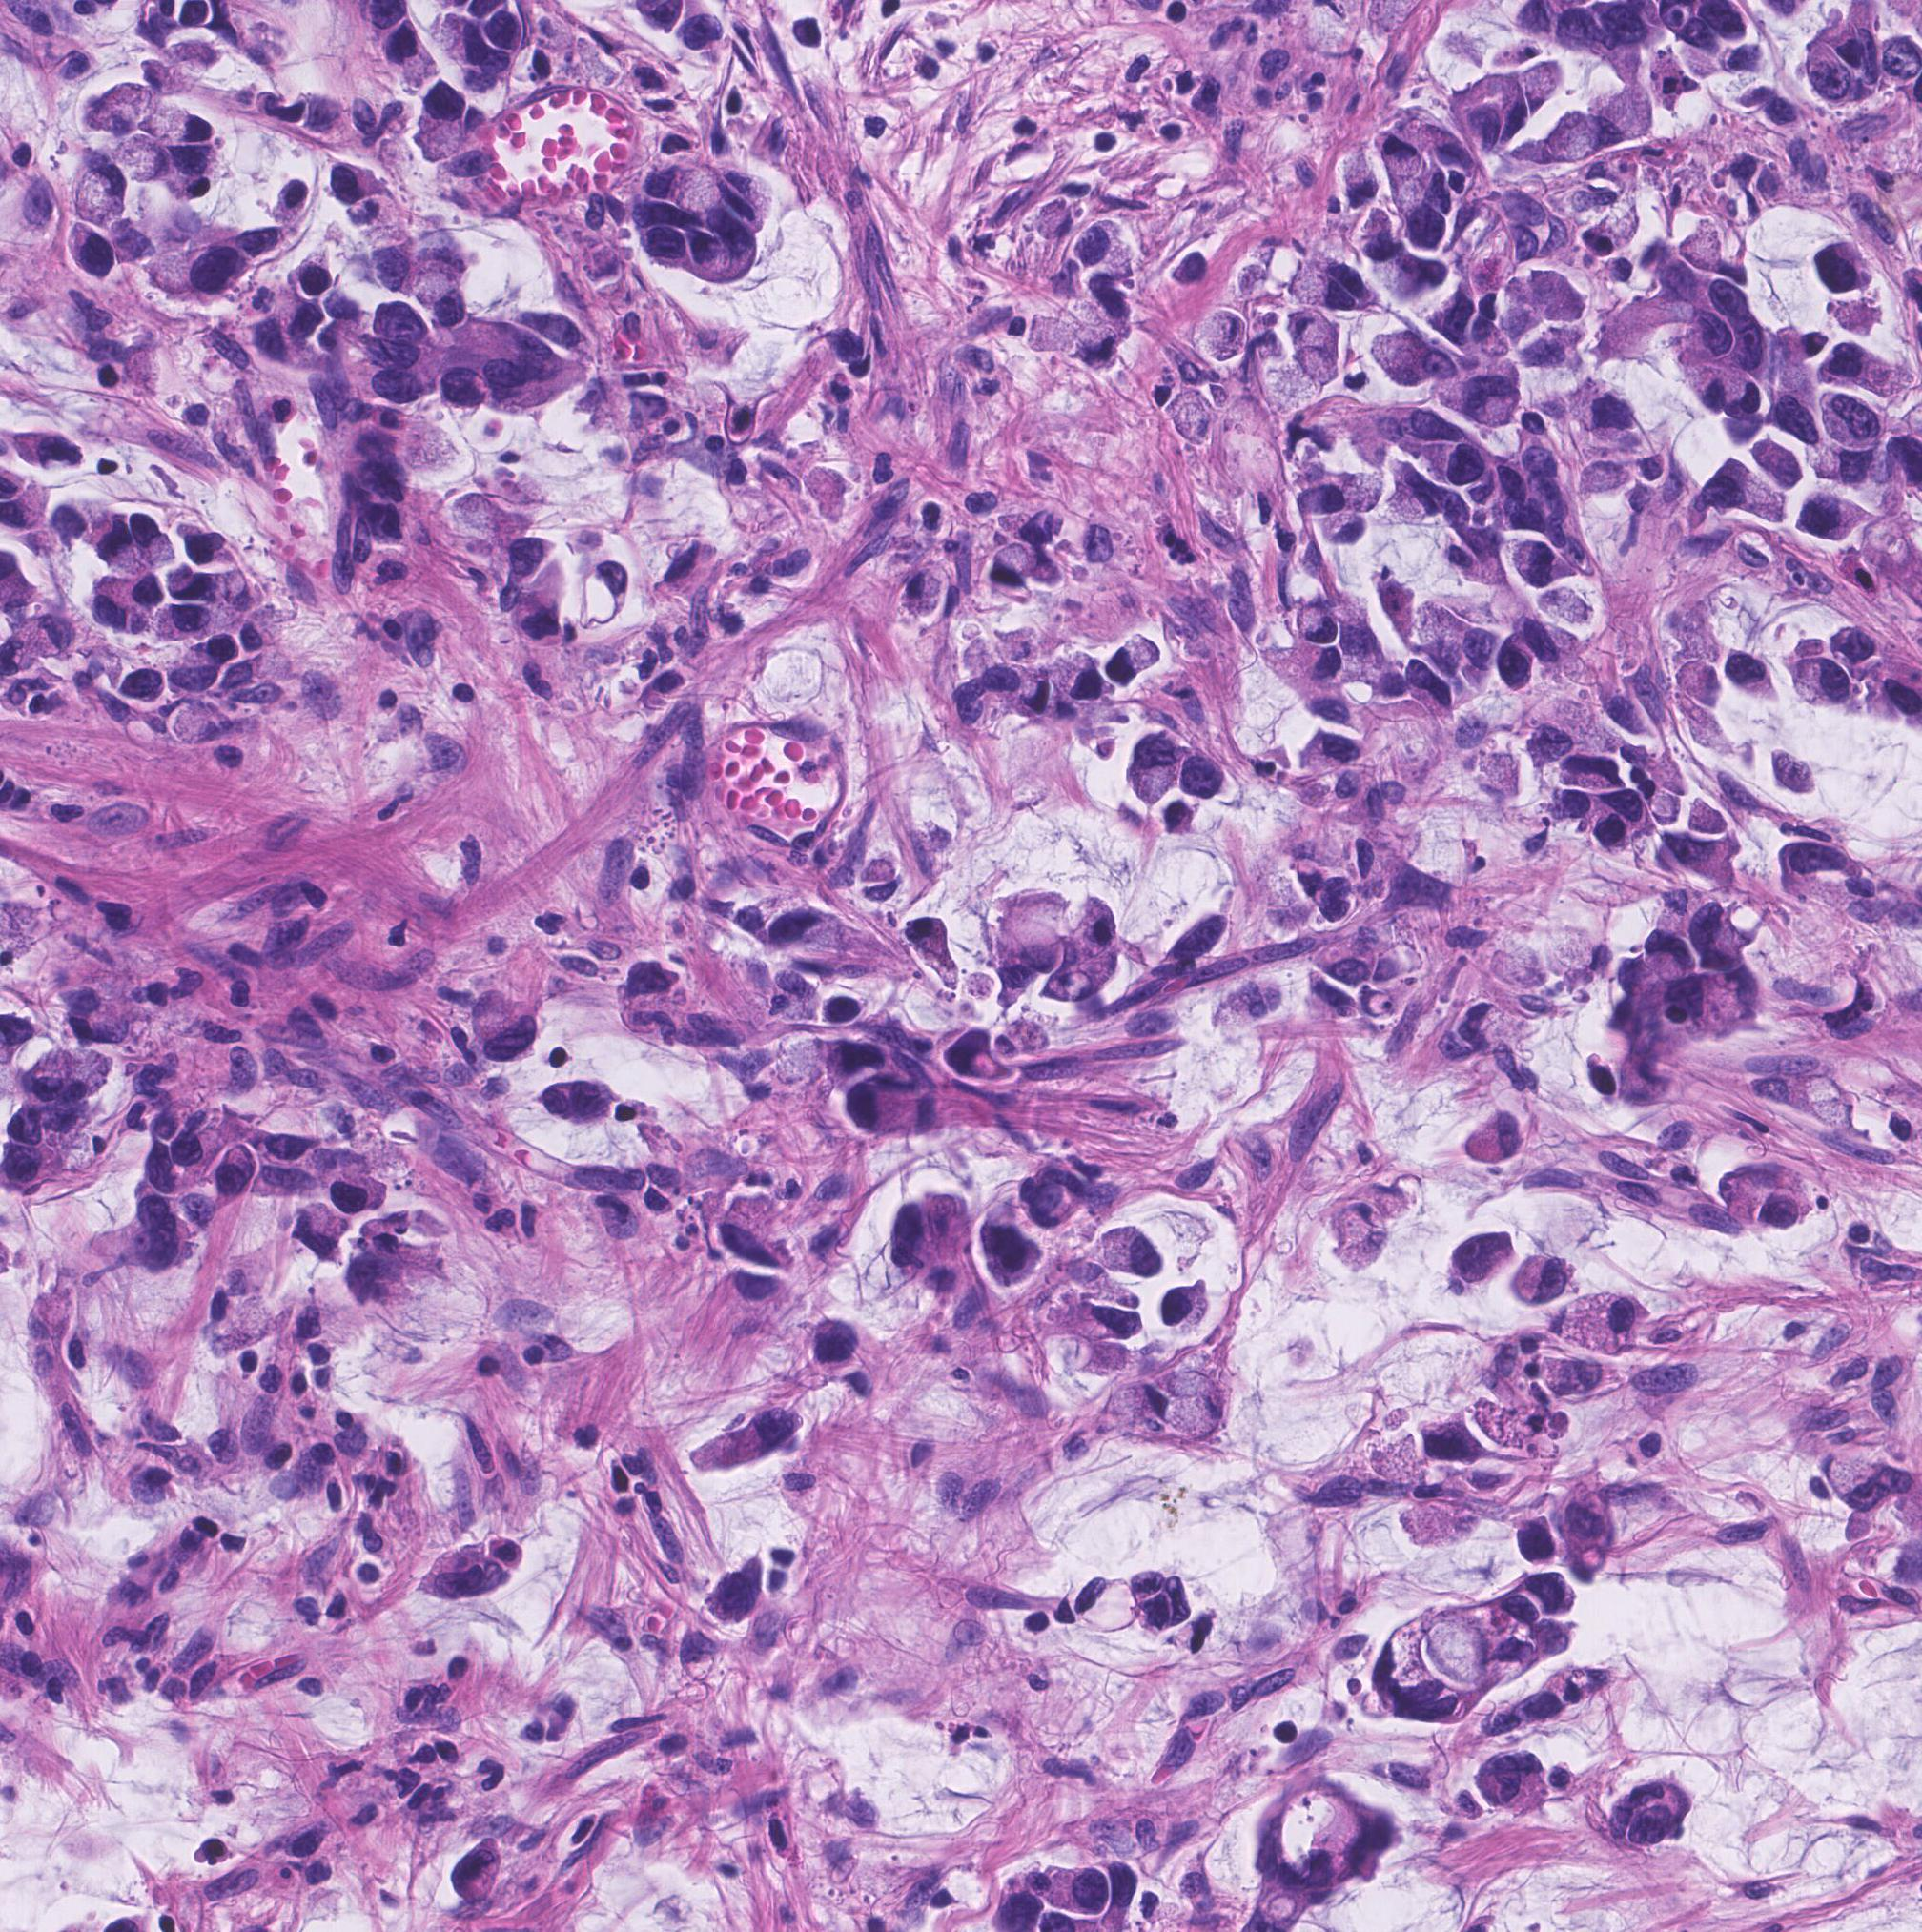ring_cell_cancer: (1133, 1365, 1234, 1455), (711, 1186, 801, 1274), (463, 992, 546, 1061), (1318, 1198, 1392, 1274), (1816, 1446, 1894, 1515), (28, 1045, 120, 1101), (574, 551, 642, 625), (1452, 373, 1531, 435), (1005, 901, 1068, 973), (1429, 1624, 1494, 1686), (1561, 741, 1637, 794), (1806, 241, 1871, 301), (1097, 1225, 1165, 1281), (1128, 728, 1179, 804), (1799, 644, 1855, 711), (86, 77, 155, 132), (1107, 630, 1169, 690), (1820, 391, 1887, 443), (1670, 655, 1730, 713), (1593, 84, 1656, 137), (1542, 111, 1607, 162), (984, 537, 1044, 591), (1510, 1255, 1570, 1309), (74, 162, 130, 218), (67, 223, 118, 283), (1199, 306, 1251, 362), (1457, 1114, 1528, 1156), (88, 797, 158, 839), (1332, 144, 1382, 204), (326, 1167, 382, 1218), (1515, 538, 1572, 588), (1295, 475, 1357, 519), (1295, 602, 1348, 653), (1074, 327, 1128, 371), (1280, 304, 1332, 348), (213, 1147, 257, 1198), (172, 706, 225, 748), (227, 561, 264, 621), (134, 516, 181, 561), (901, 565, 950, 609), (1158, 1288, 1209, 1327), (1522, 62, 1565, 107), (167, 568, 220, 604), (1035, 197, 1070, 243)
